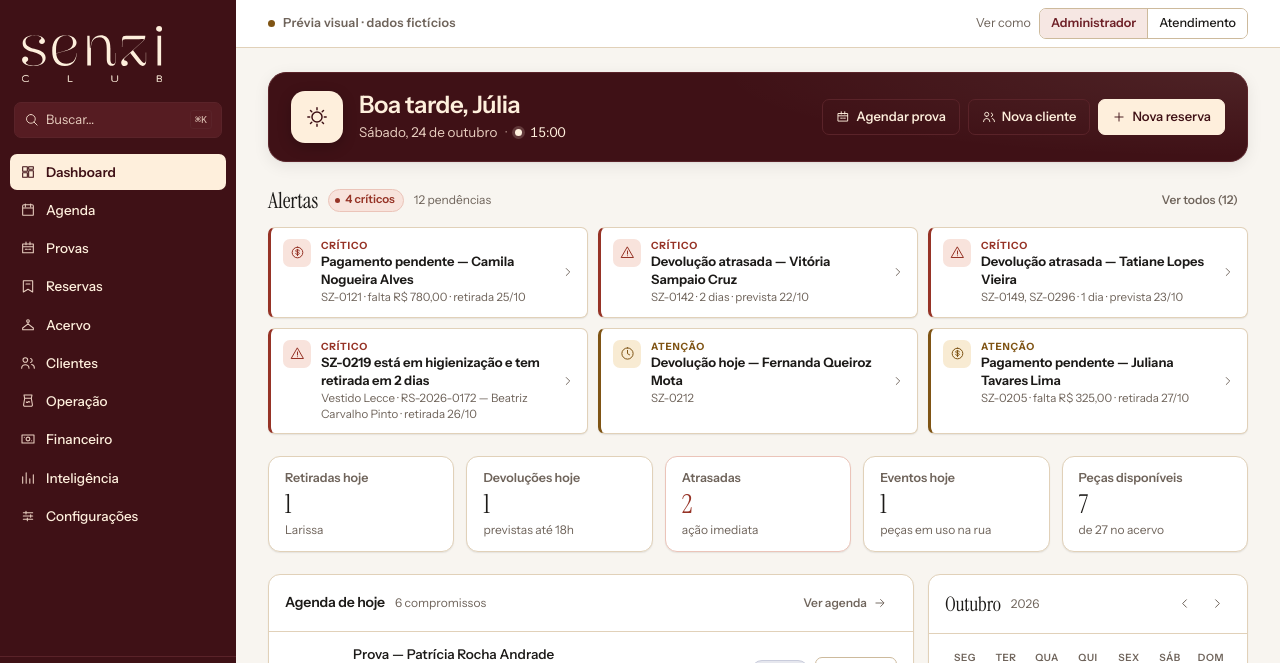
Test: Dashboard — alertas › mostra 6 boxes com rótulo de severidade; "Ver todos (N)" expande; crítico primeiro
Expected: the text "Crítico" is shown, [268,227,588,318]
Expected: the text "críticos?" is shown, [345,192,395,206]
Click the button "Ver todos (12)": (1200, 200) [1152,186,1248,214]
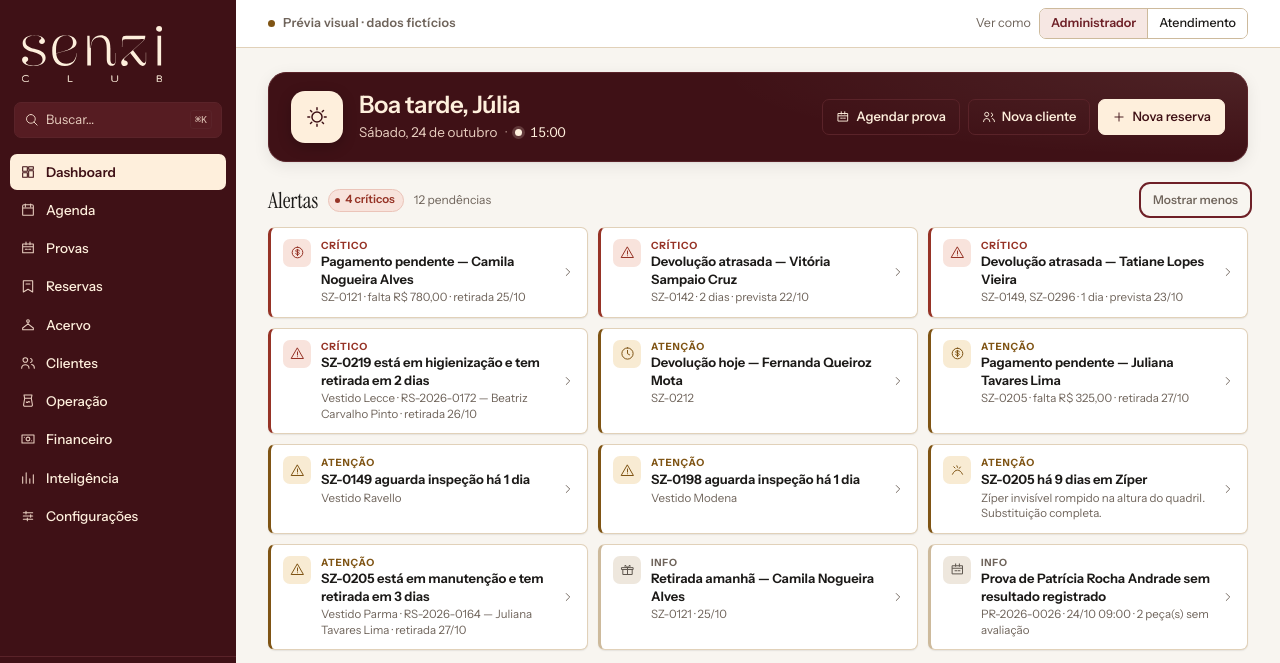
Now the button "Mostrar menos" is expanded, box [1143,186,1248,214]
